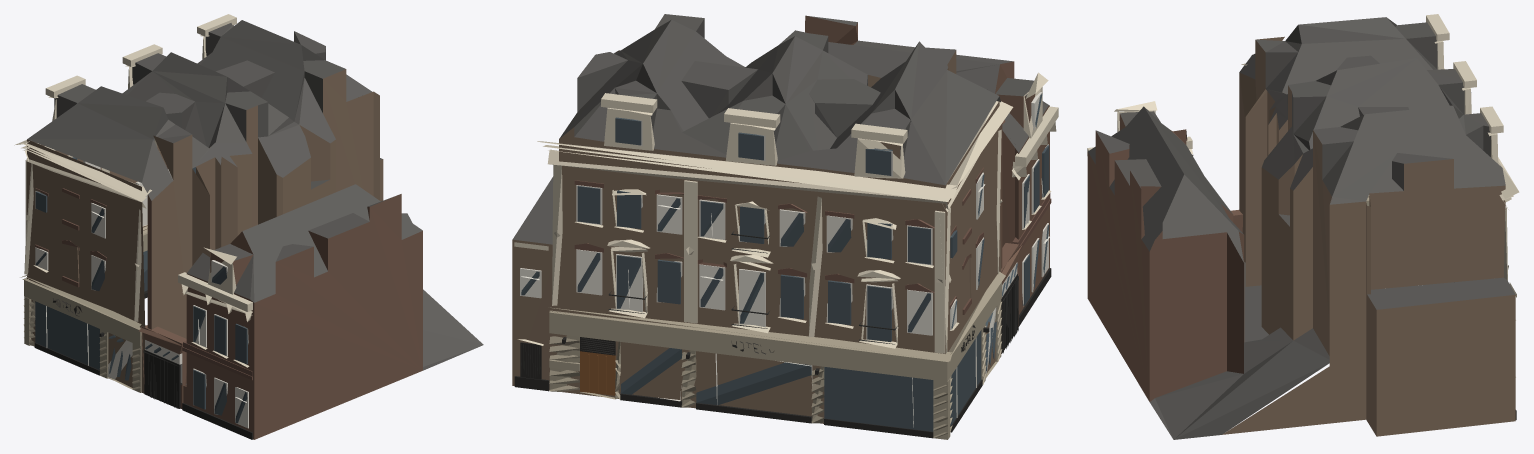
The model's file is hotel-v-frederiksplein.lod1.glb.
3 renders of one model, left to right at view 1: azimuth 30°, elevation 25°; view 2: azimuth 150°, elevation 25°; view 3: azimuth 270°, elevation 25°, orthographic. The views are drawn at different scales.
Visible parts, largest first — view 1: hotel-v-frederiksplein; view 2: hotel-v-frederiksplein; view 3: hotel-v-frederiksplein.
Part boxes in pixels (x1,y1,x2,y2): hotel-v-frederiksplein: (14,14,483,439); hotel-v-frederiksplein: (512,14,1058,439); hotel-v-frederiksplein: (1087,14,1519,439).
Bounding box in the file's own units: 26.51 × 18.7 × 26.34.
